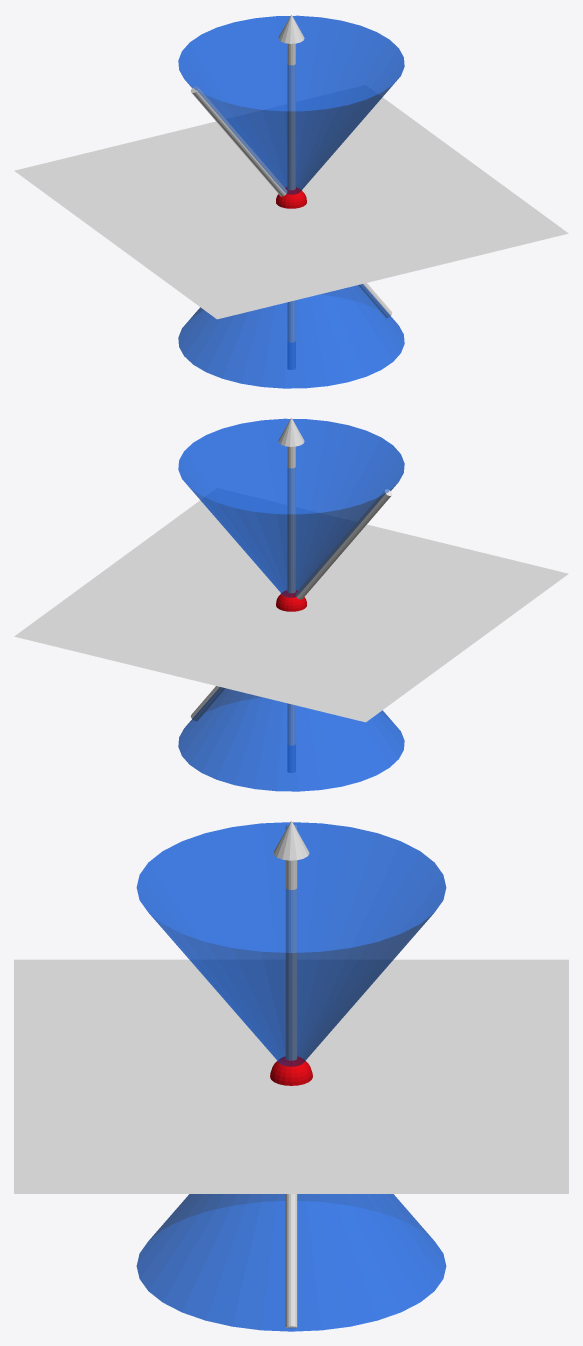
Rendered from Double Cone.fbx.
The picture shows the model from 3 angles, top to bottom: view 1: azimuth 30°, elevation 25°; view 2: azimuth 150°, elevation 25°; view 3: azimuth 270°, elevation 25°; orthographic projection. The views are drawn at different scales.
Parts seen in each view (by area): view 1: Plane, Cone, Cone.001, Cone.002, Cylinder, Cylinder.001; view 2: Plane, Cone, Cone.001, Cone.002, Cylinder, Cylinder.001; view 3: Plane, Cone, Cone.001, Cone.002, Cylinder, Cylinder.001, Cone.003.
Boxes of the visible parts, box(x1,y1,x2,y2) form: Plane: box(14, 85, 568, 319); Cone: box(178, 16, 404, 388); Cone.001: box(178, 15, 404, 111); Cone.002: box(178, 294, 404, 388); Cylinder: box(287, 43, 295, 369); Cylinder.001: box(190, 86, 391, 317); Plane: box(14, 488, 568, 722); Cone: box(178, 419, 404, 791); Cone.001: box(178, 418, 404, 514); Cone.002: box(178, 697, 404, 791); Cylinder: box(287, 446, 295, 772); Cylinder.001: box(190, 489, 392, 721); Plane: box(14, 959, 568, 1193); Cone: box(136, 822, 446, 1331); Cone.001: box(136, 822, 446, 952); Cone.002: box(137, 1201, 445, 1331); Cylinder: box(285, 860, 297, 1060); Cylinder.001: box(285, 825, 297, 1328); Cone.003: box(274, 820, 309, 860).
Size of the model in its own units: 356 by 342 by 356.
